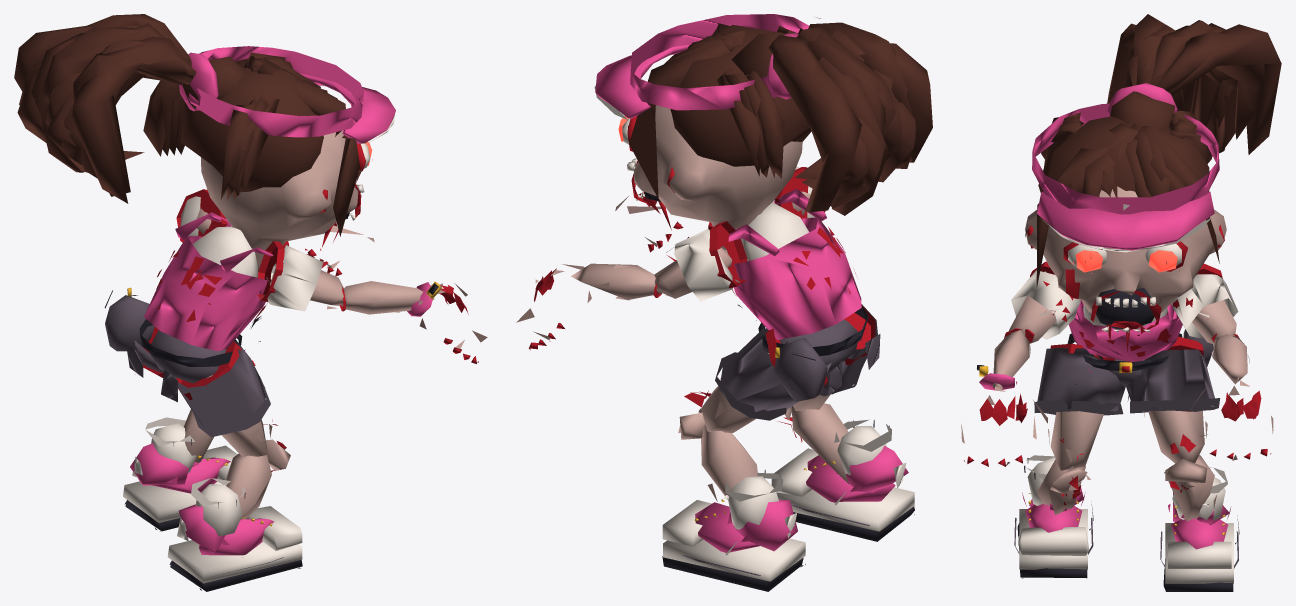
The picture shows the model from 3 angles, left to right: view 1: azimuth 30°, elevation 25°; view 2: azimuth 150°, elevation 25°; view 3: azimuth 270°, elevation 25°; orthographic projection. The views are drawn at different scales.
Visible parts, largest first — view 1: head, torso, footR, footL, legR, hip, armR, foreArmR, shinR, stump_armR, shinL, stump_armL (+3 smaller); view 2: head, torso, footL, footR, legL, hip, armL, shinL, shinR, foreArmL, stump_armL, legR (+3 smaller); view 3: head, legR, legL, footL, footR, torso, armR, armL, shinL, foreArmR, shinR, hip (+3 smaller).
Boxes of the visible parts, x1,y1,x2,y2 form: head: [14, 14, 395, 271]; torso: [144, 212, 273, 351]; footR: [167, 478, 302, 591]; footL: [123, 417, 237, 531]; legR: [171, 339, 277, 457]; hip: [104, 287, 255, 402]; armR: [266, 245, 345, 311]; foreArmR: [341, 281, 441, 316]; shinR: [226, 439, 290, 520]; stump_armR: [257, 241, 284, 301]; shinL: [184, 409, 213, 463]; stump_armL: [176, 189, 227, 242]; head: [594, 14, 932, 239]; torso: [728, 188, 861, 340]; footL: [662, 470, 805, 591]; footR: [771, 419, 914, 541]; legL: [684, 328, 831, 432]; hip: [756, 306, 880, 401]; armL: [654, 229, 732, 301]; shinL: [678, 408, 757, 501]; shinR: [778, 403, 848, 483]; foreArmL: [571, 263, 662, 300]; stump_armL: [709, 221, 747, 288]; legR: [793, 304, 877, 410]; head: [1025, 14, 1281, 355]; legR: [1034, 348, 1125, 470]; legL: [1126, 349, 1220, 463]; footL: [1160, 467, 1239, 591]; footR: [1014, 455, 1093, 578]; torso: [1068, 299, 1182, 373]; armR: [1009, 270, 1080, 343]; armL: [1171, 274, 1238, 344]; shinL: [1164, 455, 1216, 521]; foreArmR: [977, 330, 1030, 390]; shinR: [1036, 459, 1090, 514]; hip: [1067, 329, 1213, 401].
Bounding box in the file's own units: 1.29 × 1.8 × 1.03.
